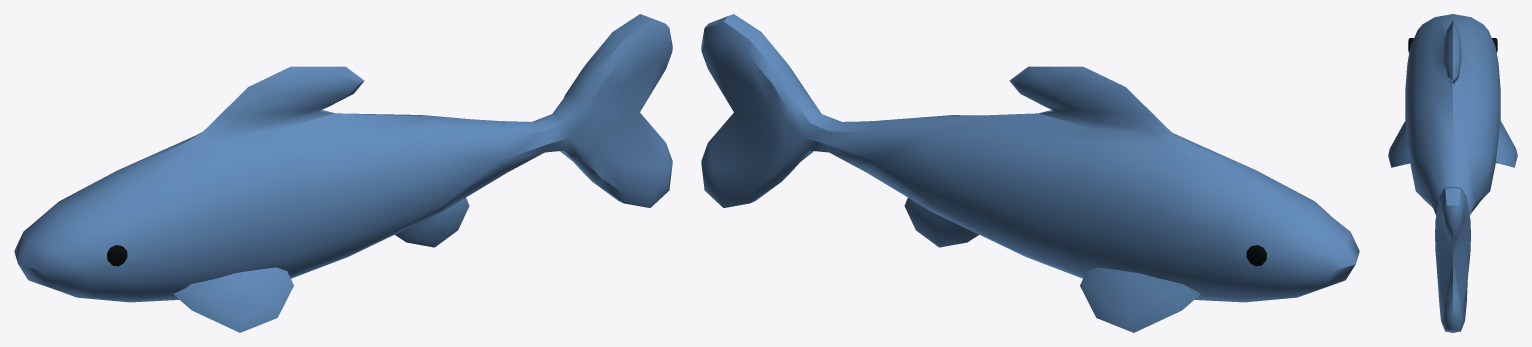
File: fish_large_A.obj
The picture shows the model from 3 angles, left to right: view 1: azimuth 30°, elevation 25°; view 2: azimuth 150°, elevation 25°; view 3: azimuth 270°, elevation 25°; orthographic projection. The views are drawn at different scales.
Visible parts, largest first — view 1: fish_large_A_Plane.017; view 2: fish_large_A_Plane.017; view 3: fish_large_A_Plane.017.
Part boxes in pixels (x1=…): fish_large_A_Plane.017: x1=14, y1=14, x2=672, y2=332; fish_large_A_Plane.017: x1=701, y1=14, x2=1359, y2=332; fish_large_A_Plane.017: x1=1388, y1=14, x2=1517, y2=332.
Bounding box in the file's own units: 1.22 × 0.4038 × 0.2752.
